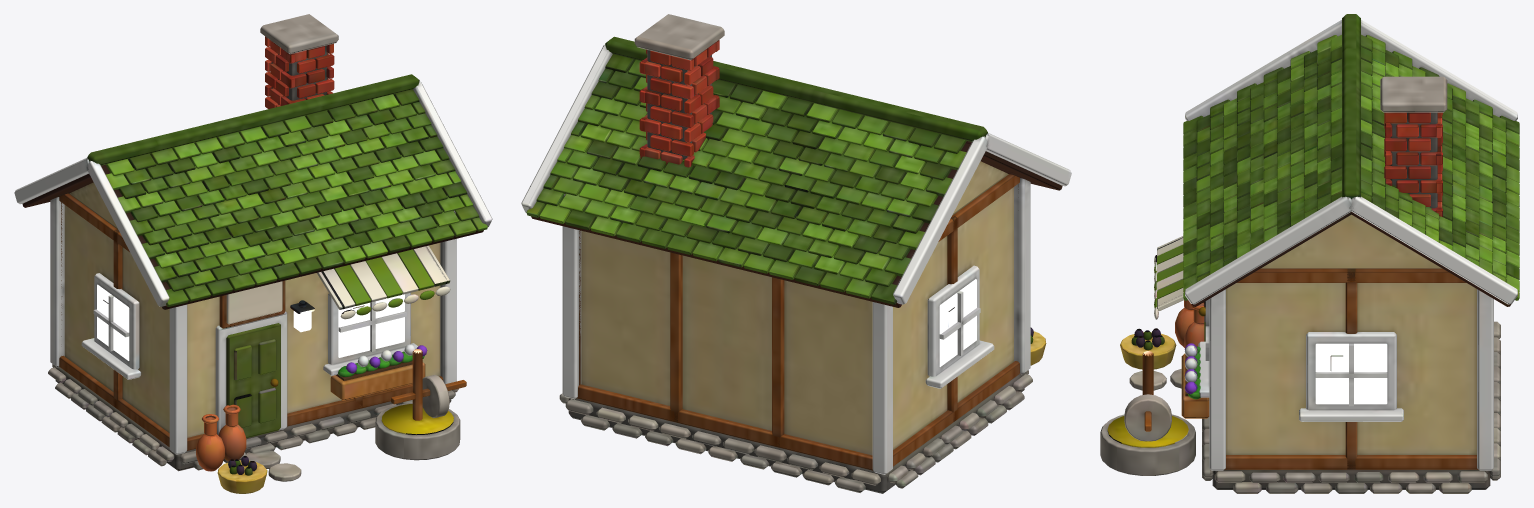
The model's file is oil_press.glb.
The picture shows the model from 3 angles, left to right: view 1: azimuth 30°, elevation 25°; view 2: azimuth 150°, elevation 25°; view 3: azimuth 270°, elevation 25°; orthographic projection. The views are drawn at different scales.
Visible parts, largest first — view 1: oil_press, spinY_mill; view 2: oil_press; view 3: oil_press, spinY_mill.
Part boxes in pixels (box(x1,y1,x2,y2)): oil_press: box(14, 14, 492, 493); spinY_mill: box(391, 375, 466, 418); oil_press: box(521, 14, 1071, 493); oil_press: box(1100, 14, 1519, 493); spinY_mill: box(1124, 394, 1171, 441).
Size of the model in its own units: 1.8 by 1.69 by 1.75.
1 material, 1 textured.
